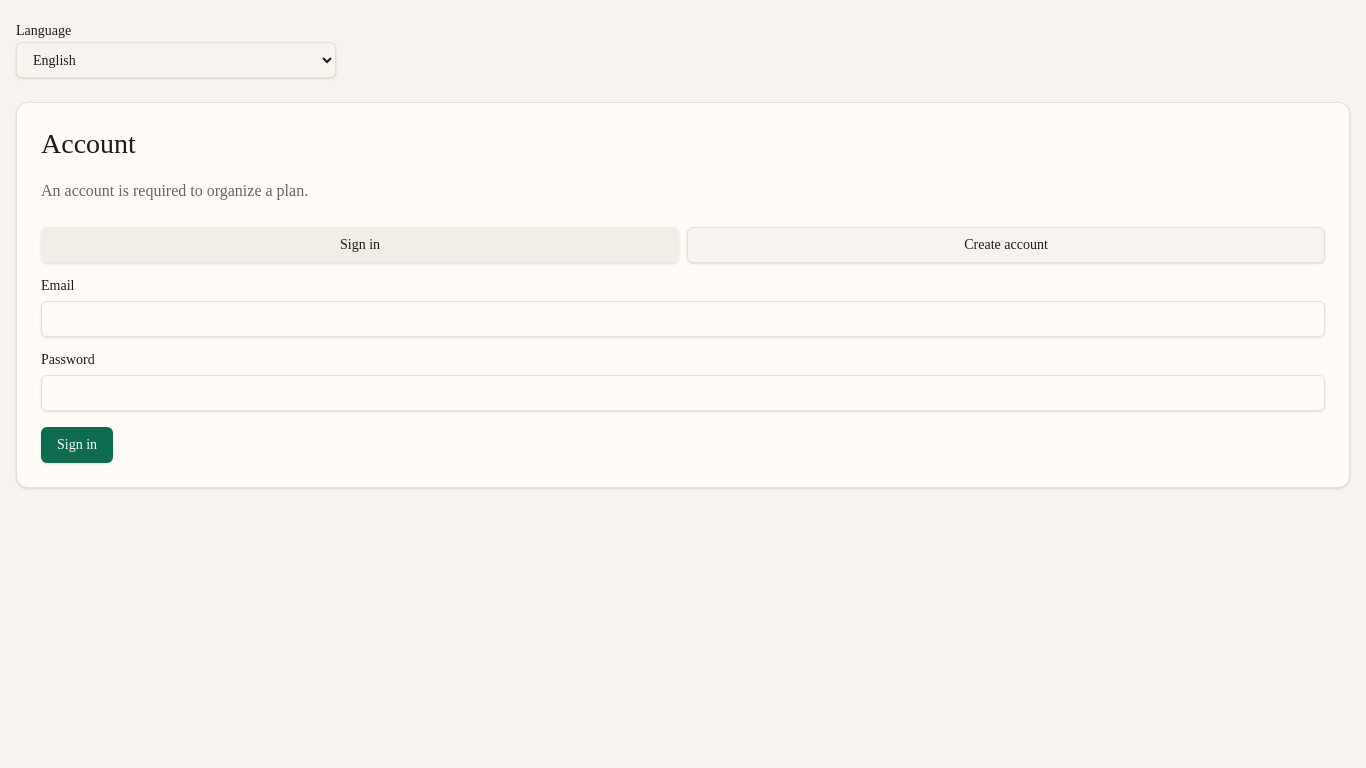
AccountGate field blocks › T-001-100/AC-1 the email label points at its input and the server's email error shows in one p after the input
This screenshot has width=1366, height=768.
Expected: the text "An account is required to organize a plan." is shown, left=41, top=182, right=308, bottom=199
Type "nour@example" into the field labelled "Email". click: coordinates (683, 319)
box: left=41, top=301, right=1325, bottom=337
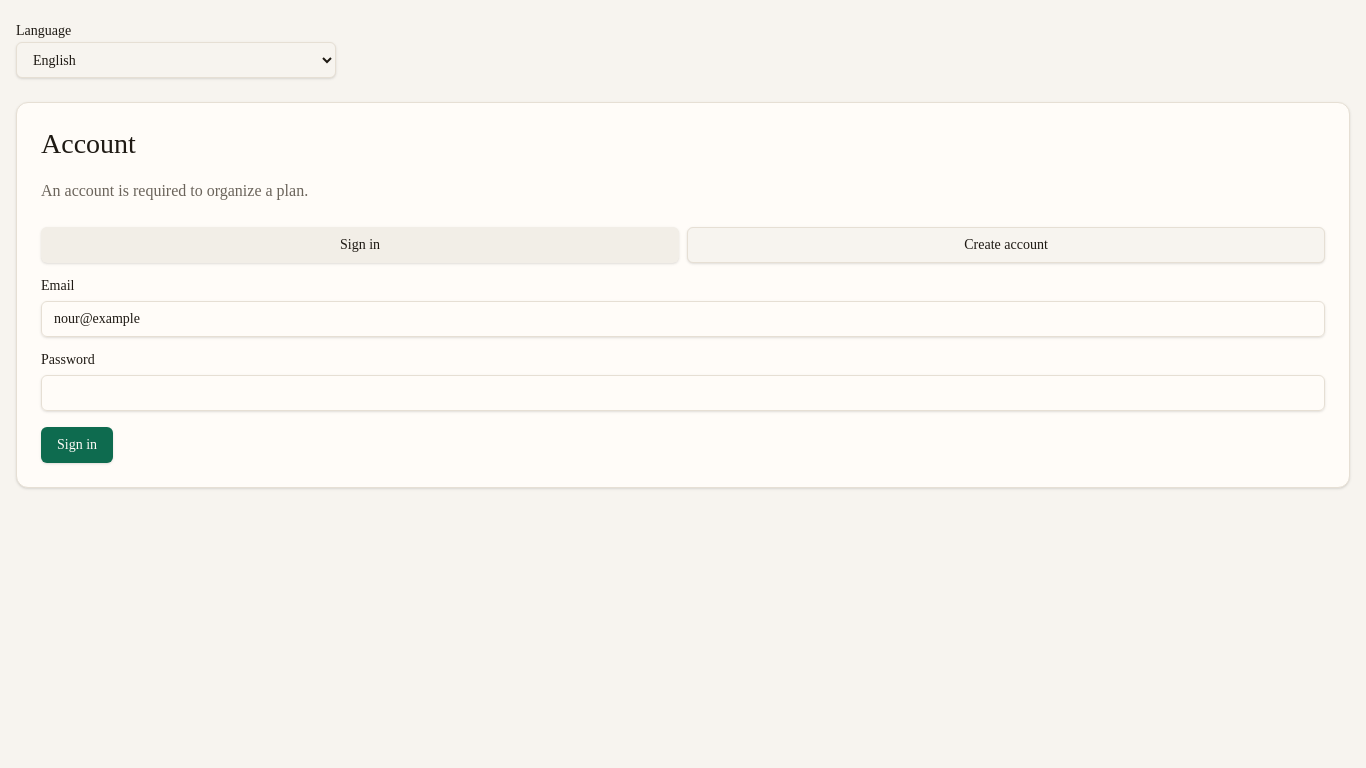
Type "a-secret-pass" into the password field labelled "Password". click: coordinates (683, 393)
box: left=41, top=375, right=1325, bottom=411
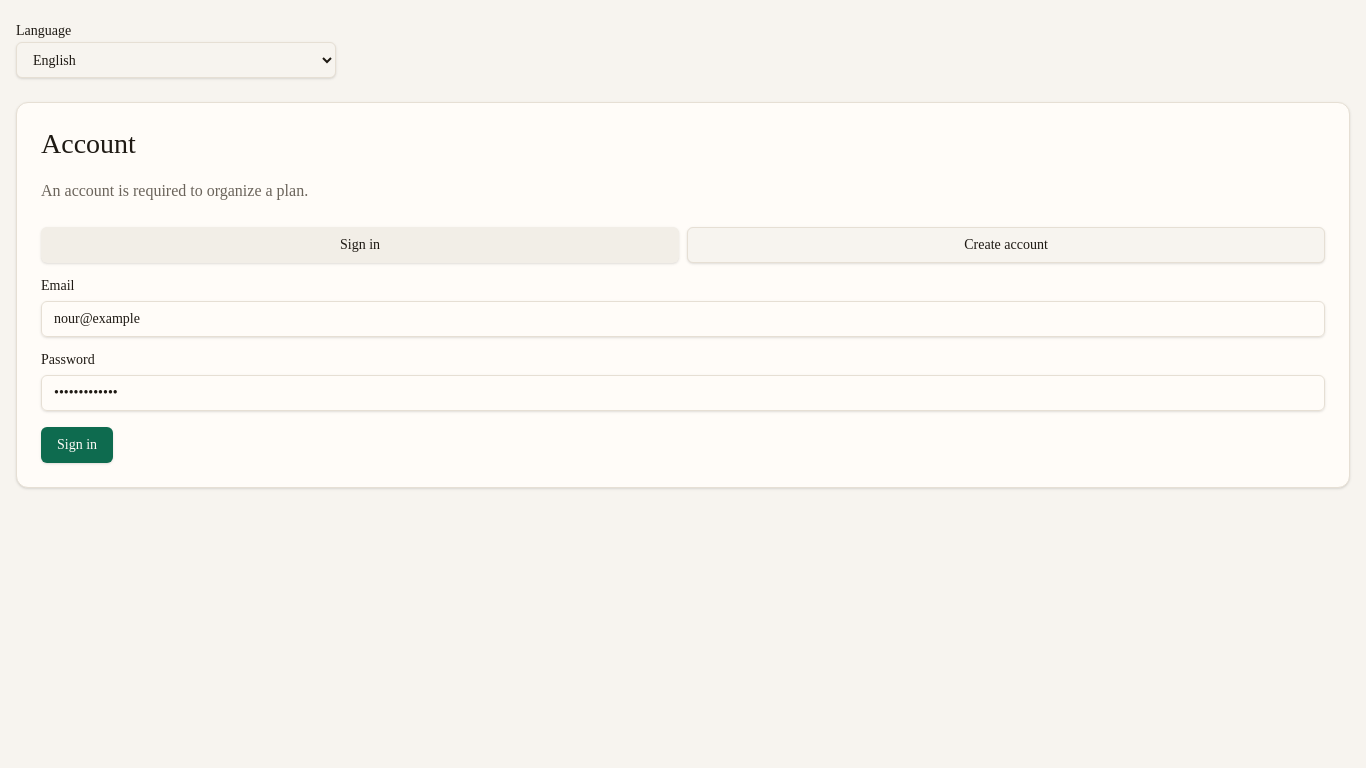
Click the button "Sign in". click: coordinates (77, 445)
box: left=41, top=427, right=113, bottom=463
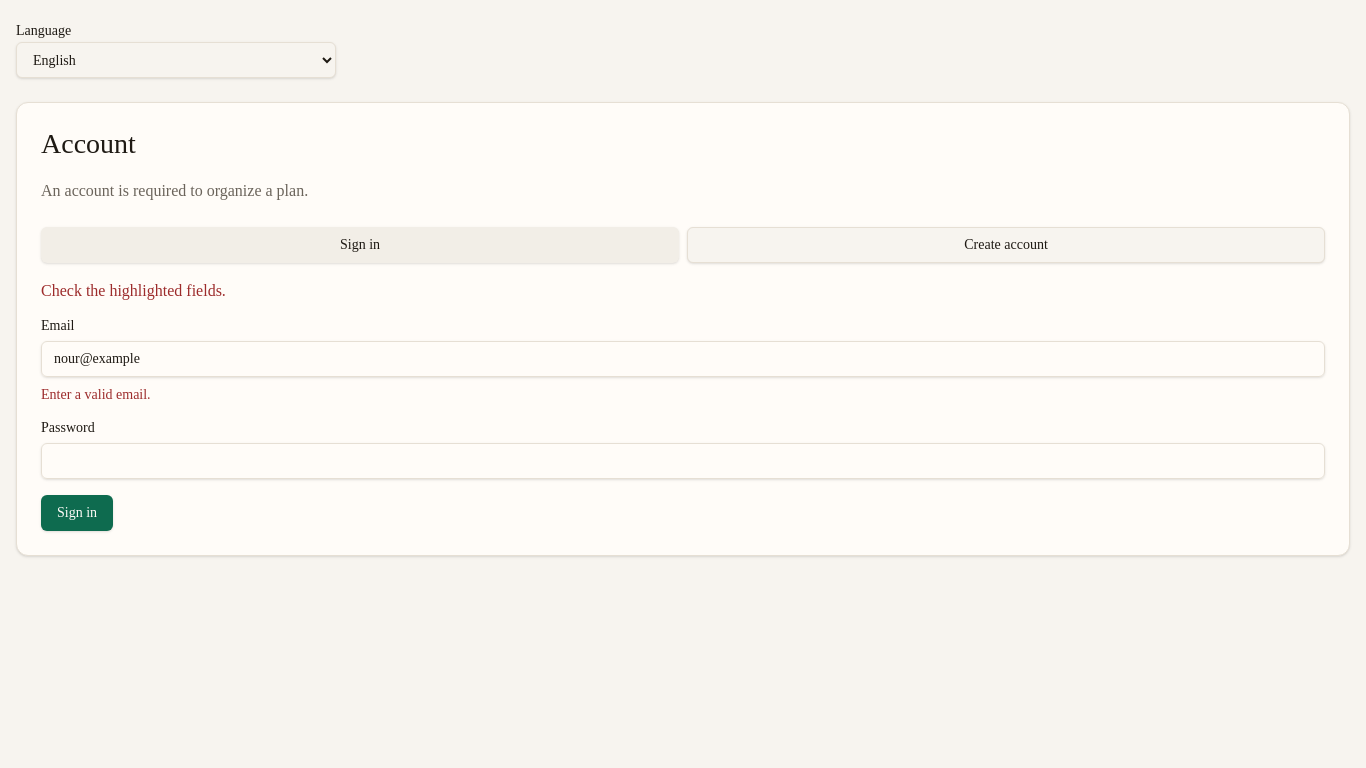
Result: the number of elements with id "hp-email-error" is 1 at left=41, top=387, right=151, bottom=402
Result: the text with id "hp-email-error" reads "Enter a valid email." at left=41, top=387, right=151, bottom=402
